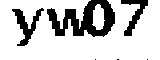0: (84, 1, 116, 40)
7: (117, 1, 151, 39)
w: (46, 6, 83, 39)
y: (10, 5, 46, 48)
